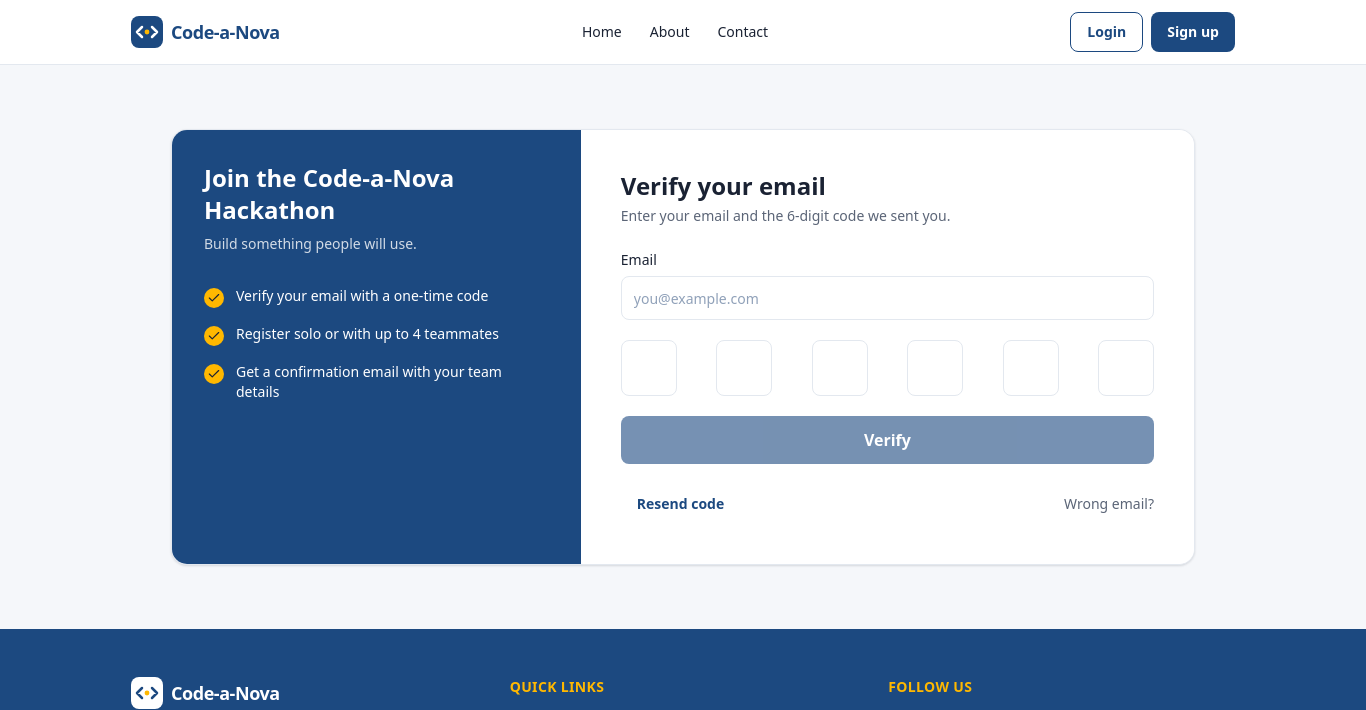
Test: signup and OTP › shows the server error for a wrong OTP and a disabled resend during cooldown
Type "a@example.com" into the field labelled "Email".
click(887, 298); type("a@example.com")  # box [621,276,1154,320]
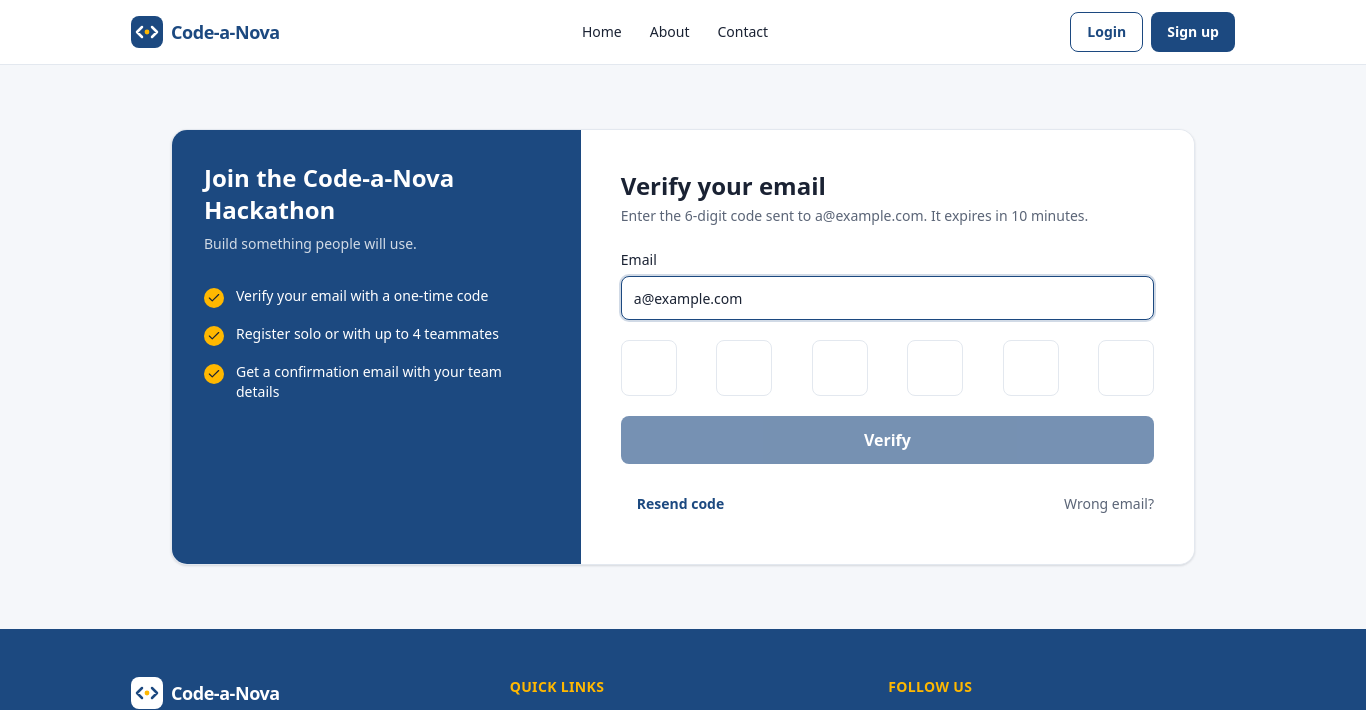
Click the field named "Digit 1".
click(649, 368)  # box [621,340,677,396]
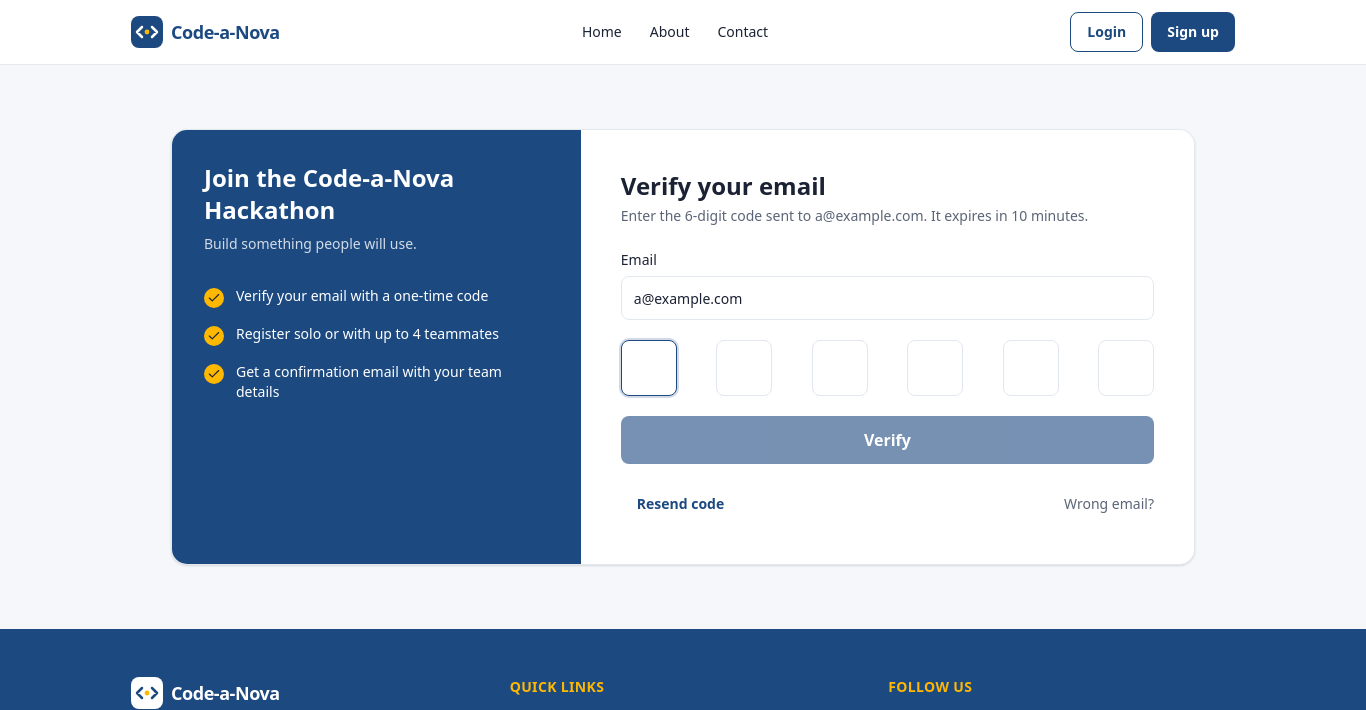
Type keys "111111"
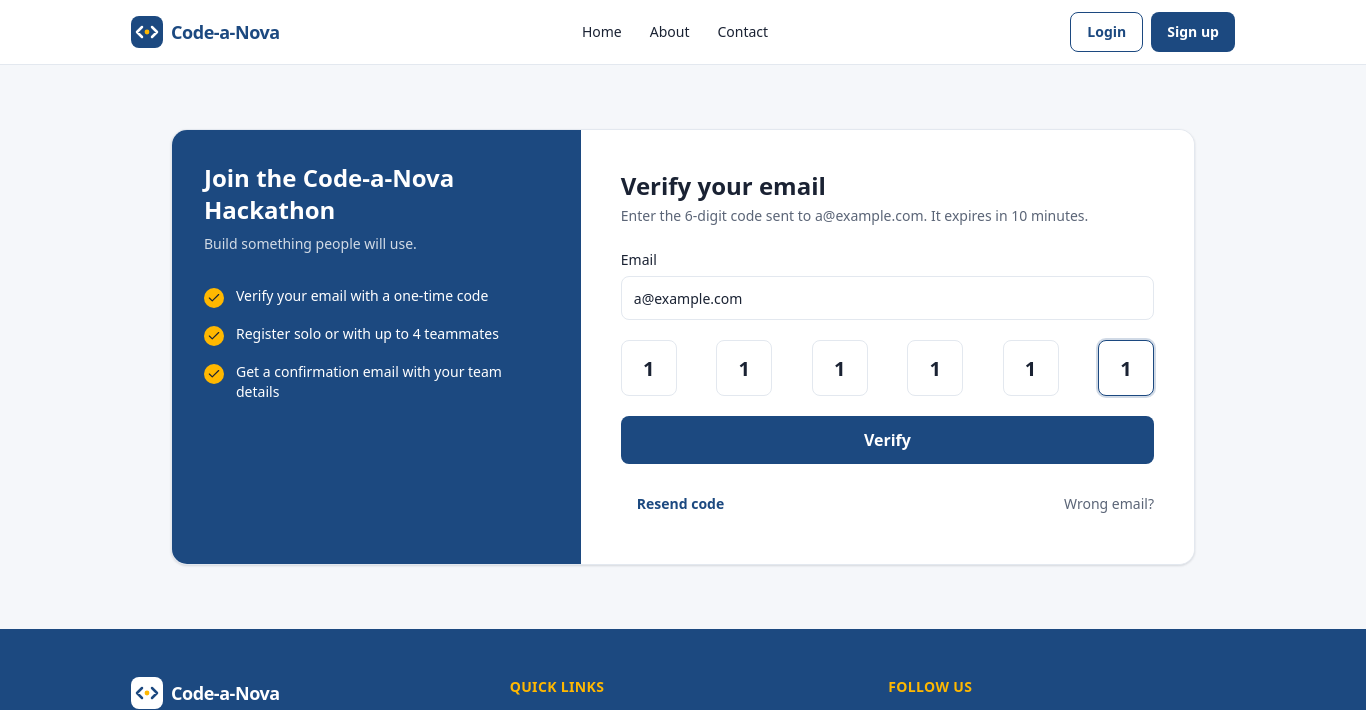
Click the button "Verify".
click(887, 440)  # box [621,416,1154,464]
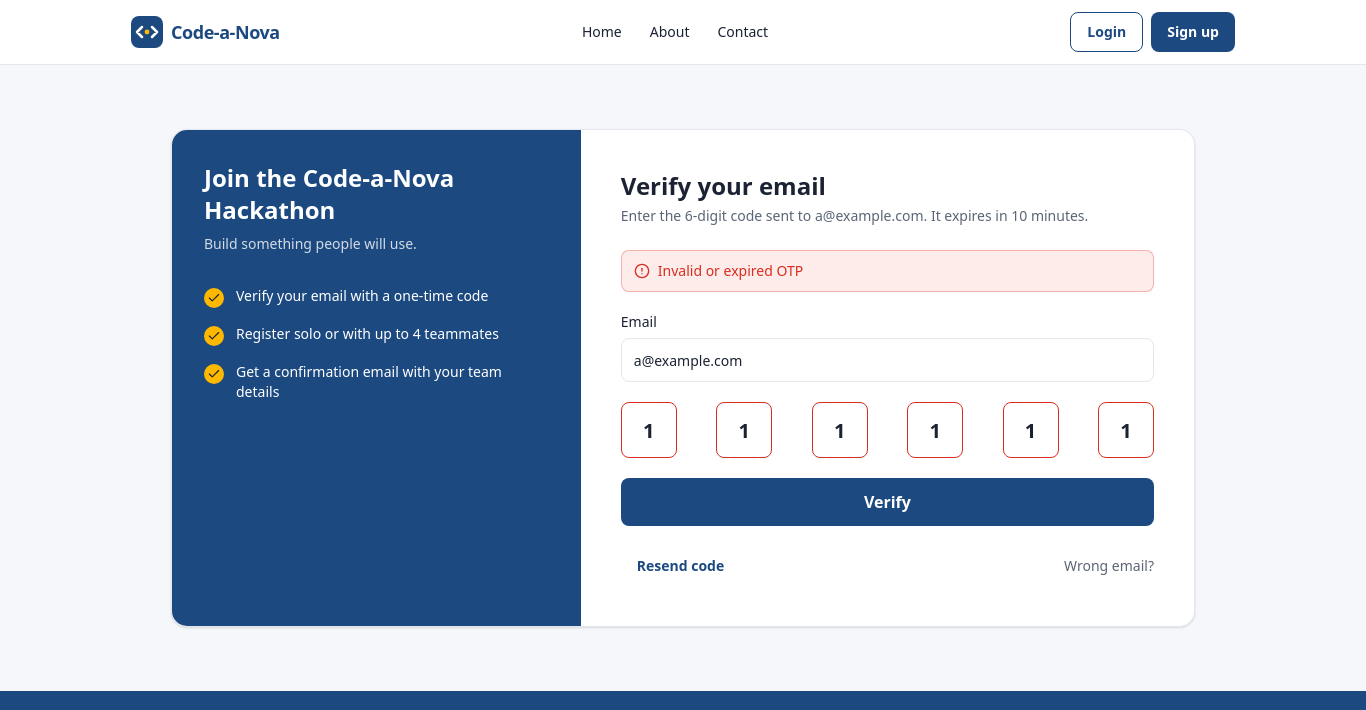
Expected: the message reads "Invalid or expired OTP", [658,261,803,280]
